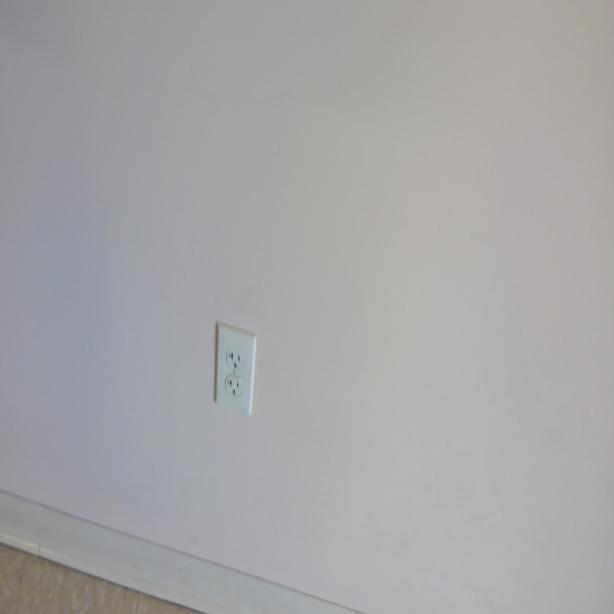typeb: (225, 344, 244, 372), (224, 373, 242, 399)
